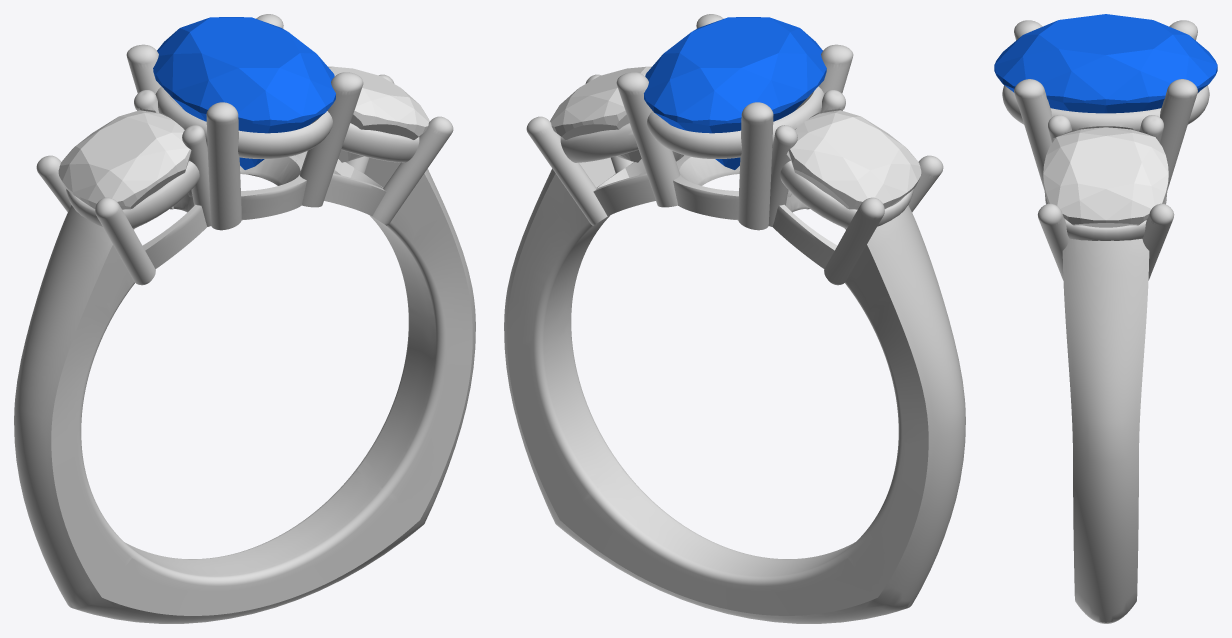
Rendered from Sloan_redo_blender.glb.
3 renders of one model, left to right at view 1: azimuth 30°, elevation 25°; view 2: azimuth 150°, elevation 25°; view 3: azimuth 270°, elevation 25°, orthographic. The views are drawn at different scales.
Parts seen in each view (by area): view 1: Sloan PT for 3d model, Sloan sapphire for 3d model, Sloan dia for 3d model.001, Sloan dia for 3d model; view 2: Sloan PT for 3d model, Sloan sapphire for 3d model, Sloan dia for 3d model.001, Sloan dia for 3d model; view 3: Sloan PT for 3d model, Sloan sapphire for 3d model, Sloan dia for 3d model.
Part boxes in pixels (<box>): Sloan PT for 3d model: <box>14,14,475,623</box>; Sloan sapphire for 3d model: <box>153,17,335,169</box>; Sloan dia for 3d model.001: <box>58,110,191,209</box>; Sloan dia for 3d model: <box>328,66,429,162</box>; Sloan PT for 3d model: <box>504,14,965,623</box>; Sloan sapphire for 3d model: <box>644,17,826,169</box>; Sloan dia for 3d model.001: <box>788,110,921,209</box>; Sloan dia for 3d model: <box>550,66,651,162</box>; Sloan PT for 3d model: <box>1002,20,1209,623</box>; Sloan sapphire for 3d model: <box>994,14,1217,113</box>; Sloan dia for 3d model: <box>1043,127,1168,227</box>.
Size of the model in its own units: 20.7 by 24.93 by 9.14.
